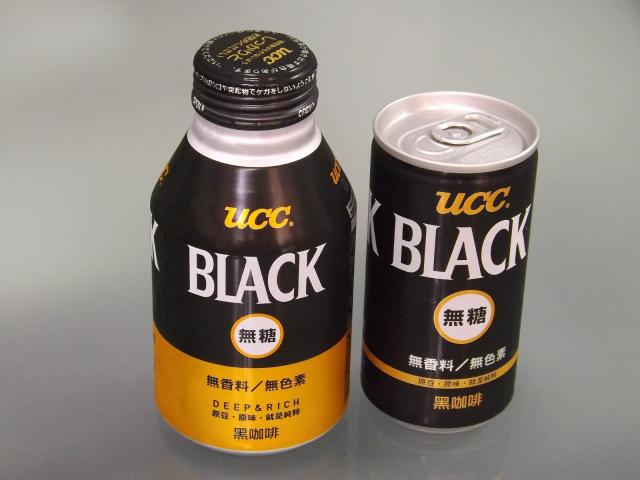Canned_drinks: (361, 142, 538, 429)
bottle: (150, 31, 356, 452)
